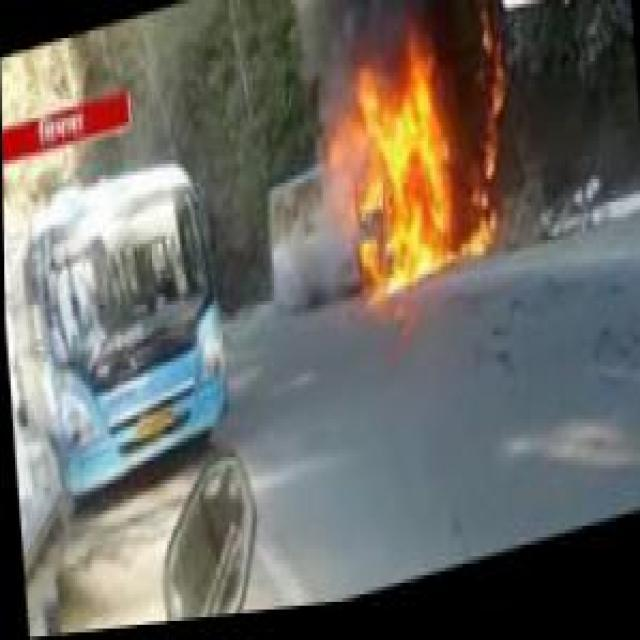Fire: (310, 4, 516, 343)
Smoke: (259, 0, 347, 141)
